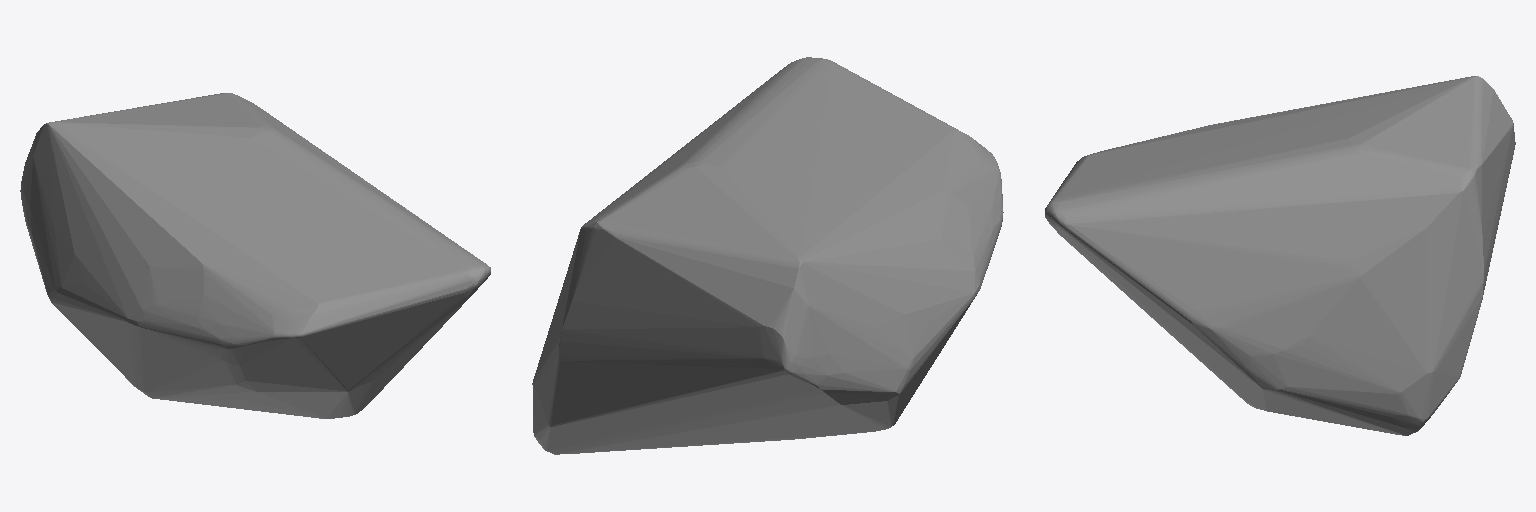
URDF robot description (rock):
<?xml version="1.0"?>
<robot name="rock">

  <link name="rock_link">

    <visual>
      <origin xyz="0 0 0" rpy="0 0 0"/>
      <geometry>
        <mesh filename="tool/sculpt_convex.stl" scale="0.0001 0.0001 0.0001"/>
      </geometry>
      <material name="stone_color">
        <color rgba="0.6 0.6 0.6 1.0"/>
      </material>
    </visual>

    <collision>
      <origin xyz="0 0 0" rpy="0 0 0"/>
      <geometry>
        <mesh filename="tool/sculpt_convex.stl" scale="0.0001 0.0001 0.0001"/>
      </geometry>
    </collision>

    <inertial>
      <origin xyz="0 0 0" rpy="0 0 0"/>
      <mass value="0.25"/>
      <inertia
        ixx="0.00061" ixy="0" ixz="0"
        iyy="0.00041" iyz="0"
        izz="0.00071"/>
    </inertial>

  </link>

  <gazebo reference="rock_link">
    <!-- Trenje -->
    <mu1>1.0</mu1>
    <mu2>1.0</mu2>
  </gazebo>

</robot>

--- What the picture shows (computed from the rendered views, not written in the file) ---
The picture shows the robot from 3 angles, left to right: view 1: azimuth 30°, elevation 25°; view 2: azimuth 150°, elevation 25°; view 3: azimuth 270°, elevation 25°; orthographic projection.
Model rock with 1 links and 0 joints (none), rooted at rock_link, posed all joints at 0.
Visible links, largest first — view 1: rock_link; view 2: rock_link; view 3: rock_link.
Boxes of the visible links, x1,y1,x2,y2 form: rock_link: (20, 93, 490, 418); rock_link: (532, 57, 1003, 454); rock_link: (1045, 76, 1515, 435).
Size in the robot's own frame: 0.0553 by 0.0742 by 0.0433 metres.
1 mesh visuals loaded from 1 distinct referenced files (1 binary STL).
